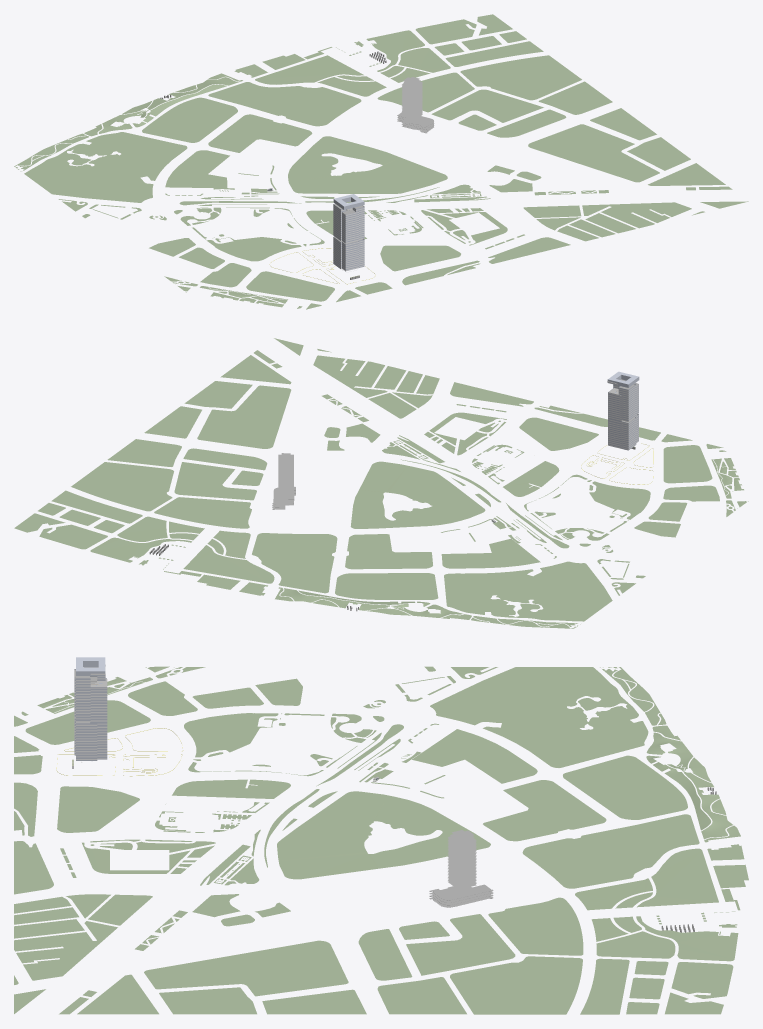
File: lujiazui-27.glb
3 renders of one model, top to bottom at view 1: azimuth 30°, elevation 25°; view 2: azimuth 150°, elevation 25°; view 3: azimuth 270°, elevation 25°, orthographic. The views are drawn at different scales.
Parts seen in each view (by area): view 1: source_3121_Mat3d66-1303573-2055-5153_part0, source_3139_Mat3d66-1303573-2072-1186_part0, source_3120_Mat3d66-1303573-2153-4388_part0, source_3152_Mat3d66-1303573-2117-4900_part0, source_3153_Mat3d66-1303573-2073-379_part0; view 2: source_3121_Mat3d66-1303573-2055-5153_part0, source_3139_Mat3d66-1303573-2072-1186_part0, source_3120_Mat3d66-1303573-2153-4388_part0, source_3154_Mat3d66-1303573-2072-1186_part0, source_3153_Mat3d66-1303573-2073-379_part0, source_3152_Mat3d66-1303573-2117-4900_part0; view 3: source_3121_Mat3d66-1303573-2055-5153_part0, source_3139_Mat3d66-1303573-2072-1186_part0, source_3120_Mat3d66-1303573-2153-4388_part0, source_3153_Mat3d66-1303573-2073-379_part0, source_3152_Mat3d66-1303573-2117-4900_part0.
Boxes of the visible parts, x1=… form: source_3121_Mat3d66-1303573-2055-5153_part0: x1=14, y1=14, x2=748, y2=309; source_3139_Mat3d66-1303573-2072-1186_part0: x1=333, y1=194, x2=364, y2=271; source_3120_Mat3d66-1303573-2153-4388_part0: x1=397, y1=77, x2=434, y2=133; source_3152_Mat3d66-1303573-2117-4900_part0: x1=341, y1=212, x2=358, y2=270; source_3153_Mat3d66-1303573-2073-379_part0: x1=333, y1=205, x2=364, y2=268; source_3121_Mat3d66-1303573-2055-5153_part0: x1=14, y1=338, x2=748, y2=628; source_3139_Mat3d66-1303573-2072-1186_part0: x1=607, y1=371, x2=639, y2=448; source_3120_Mat3d66-1303573-2153-4388_part0: x1=272, y1=453, x2=295, y2=509; source_3154_Mat3d66-1303573-2072-1186_part0: x1=618, y1=384, x2=636, y2=450; source_3153_Mat3d66-1303573-2073-379_part0: x1=607, y1=381, x2=636, y2=449; source_3152_Mat3d66-1303573-2117-4900_part0: x1=608, y1=384, x2=638, y2=448; source_3121_Mat3d66-1303573-2055-5153_part0: x1=14, y1=666, x2=748, y2=1014; source_3139_Mat3d66-1303573-2072-1186_part0: x1=74, y1=657, x2=107, y2=760; source_3120_Mat3d66-1303573-2153-4388_part0: x1=429, y1=830, x2=493, y2=907; source_3153_Mat3d66-1303573-2073-379_part0: x1=74, y1=667, x2=105, y2=759; source_3152_Mat3d66-1303573-2117-4900_part0: x1=90, y1=687, x2=107, y2=759.
Bounding box in the file's own units: 1500 × 205 × 1341.
